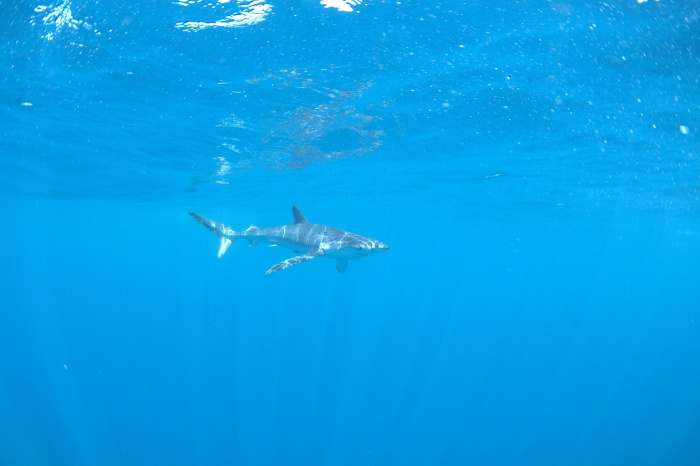Azul: (184, 196, 394, 285)
